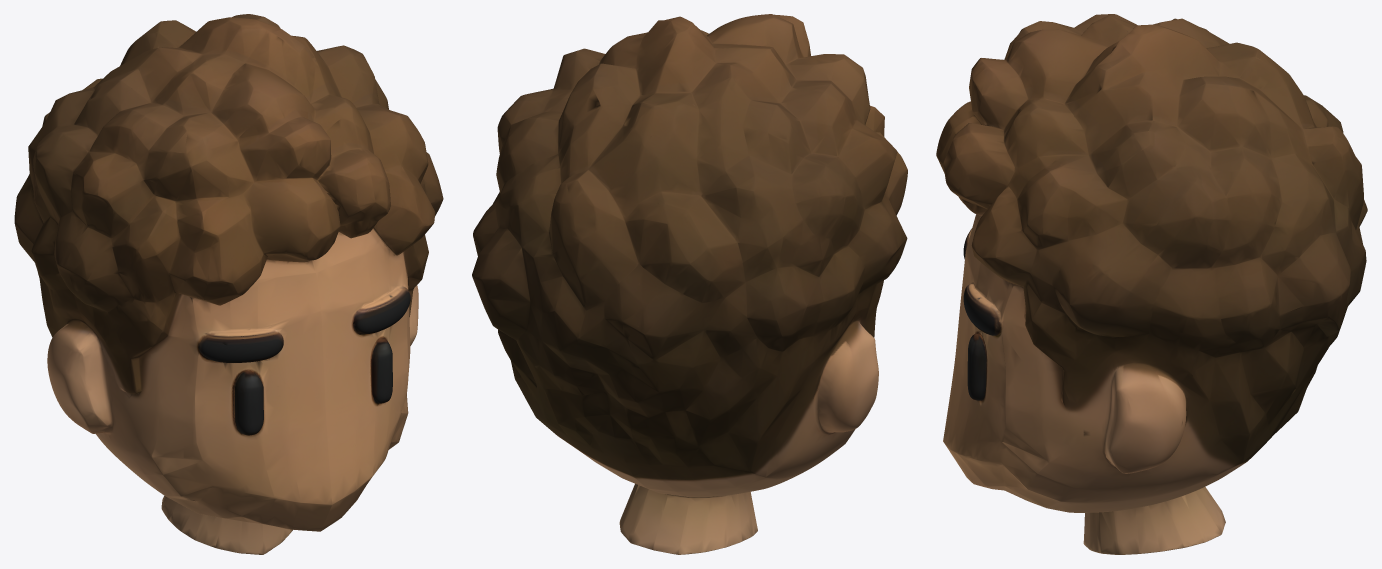
The picture shows the model from 3 angles, left to right: view 1: azimuth 30°, elevation 25°; view 2: azimuth 150°, elevation 25°; view 3: azimuth 270°, elevation 25°; orthographic projection. The views are drawn at different scales.
Parts seen in each view (by area): view 1: node_0; view 2: node_0; view 3: node_0.
Boxes of the visible parts, box(x1,y1,x2,y2) form: node_0: box(14, 14, 443, 554); node_0: box(472, 14, 907, 554); node_0: box(936, 14, 1367, 554).
Size of the model in its own units: 0.8898 by 1.17 by 0.878.
1 material, 1 textured.
